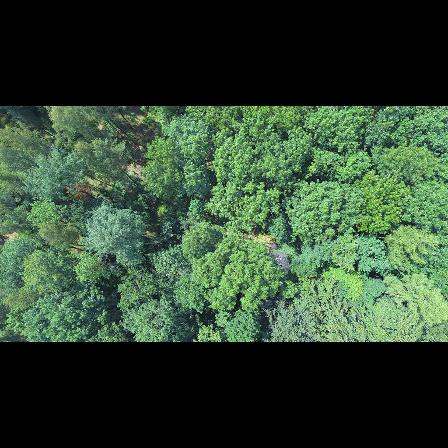Dead: (266, 247, 295, 273)
